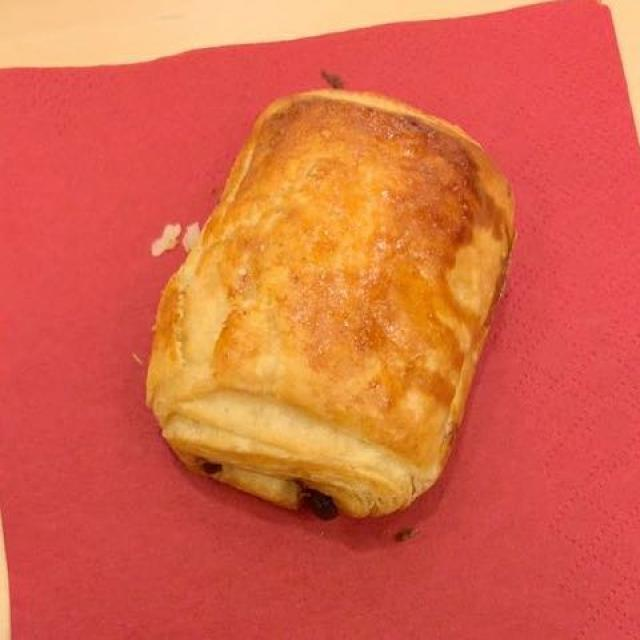bread: (146, 94, 513, 514)
